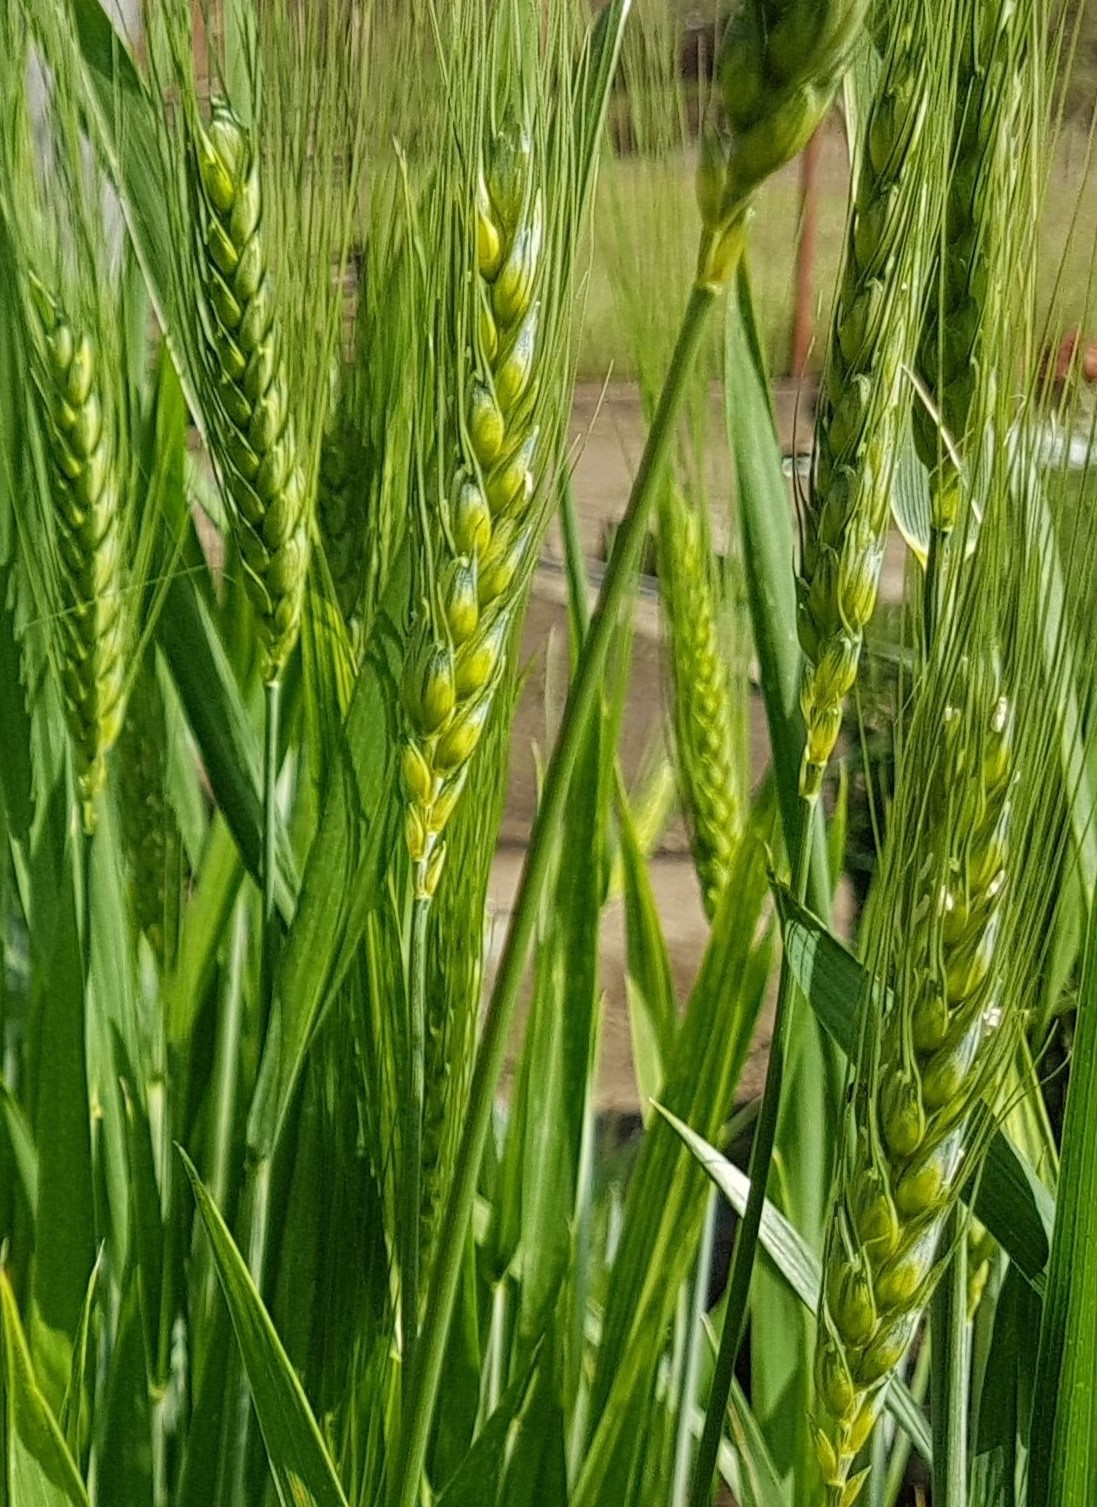Healthy Wheat: (803, 710, 1053, 1456), (382, 106, 600, 856), (784, 62, 960, 697), (145, 92, 331, 658)
